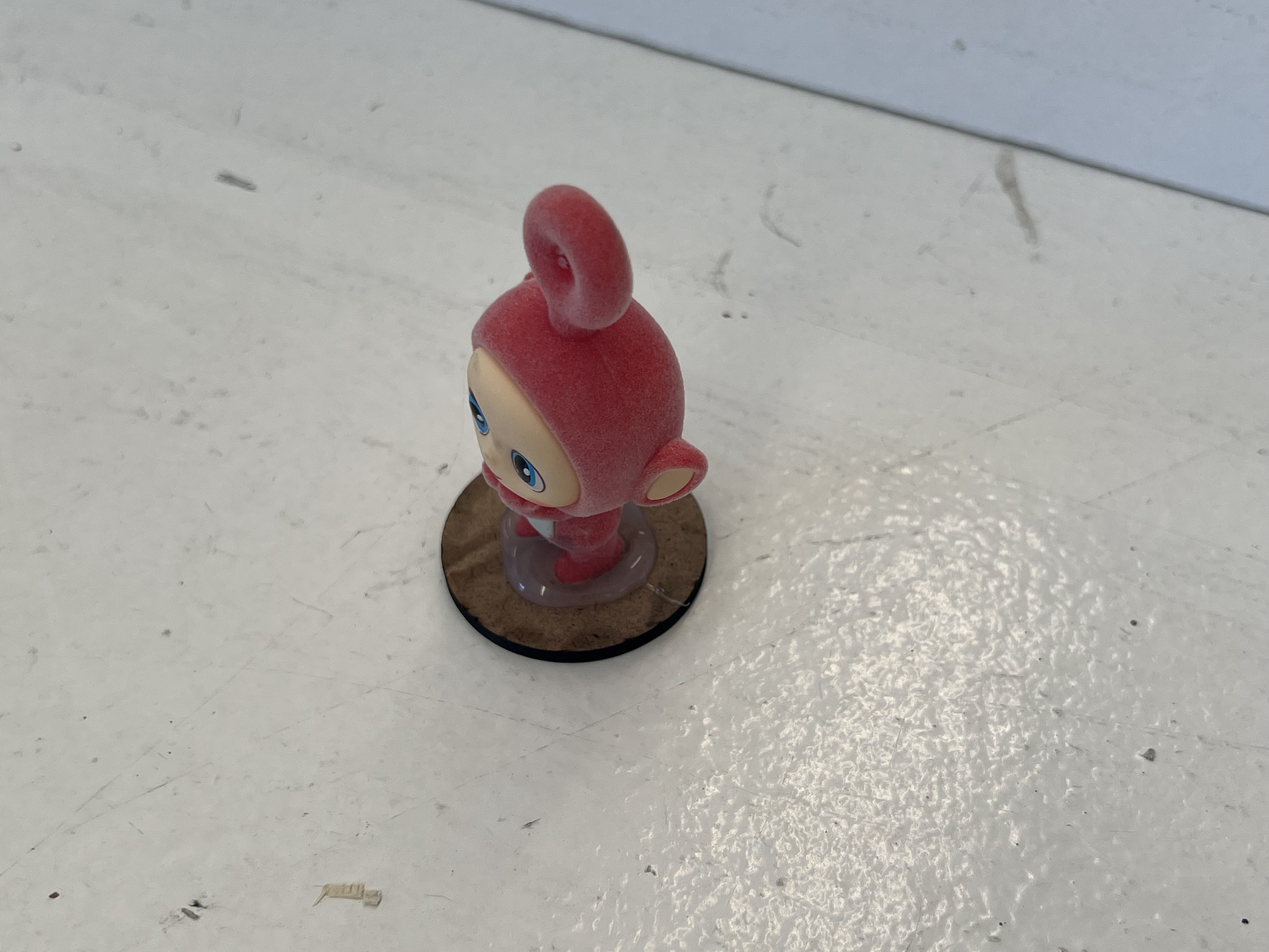teletubby: (466, 185, 707, 586)
